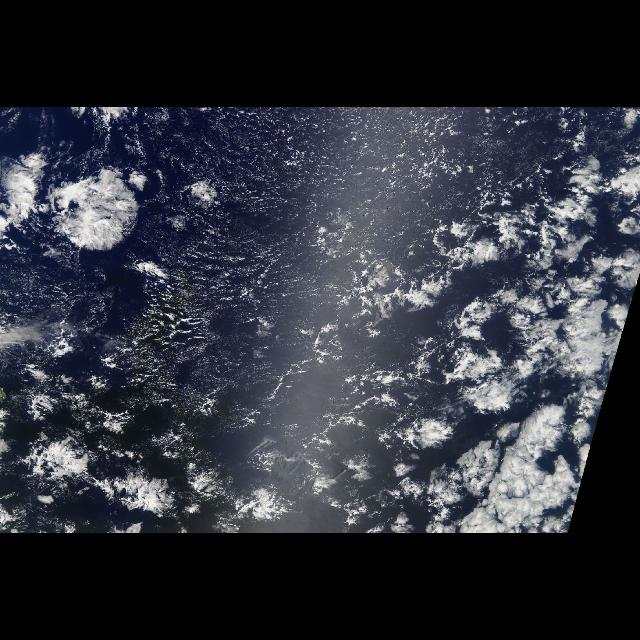Gravel: (139, 108, 463, 408)
Sugar: (170, 111, 484, 461)
